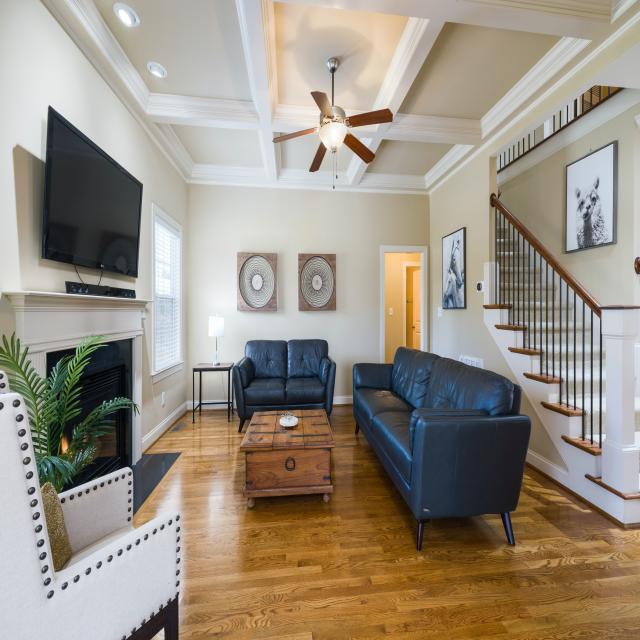floor: (132, 403, 640, 640)
wall: (429, 19, 640, 473), (187, 185, 430, 401), (497, 101, 640, 306), (565, 140, 618, 254), (385, 253, 421, 363), (237, 253, 277, 315), (298, 254, 336, 311), (201, 371, 228, 401), (75, 265, 102, 285), (535, 123, 544, 146), (194, 372, 200, 401), (0, 366, 17, 375), (0, 357, 15, 364), (555, 111, 560, 132), (524, 134, 529, 153), (603, 86, 609, 99), (530, 130, 534, 149), (514, 142, 518, 160), (519, 139, 523, 156), (0, 353, 11, 359), (610, 86, 618, 94), (230, 368, 232, 400), (505, 149, 509, 165), (561, 108, 564, 128), (233, 382, 236, 400), (510, 146, 513, 163), (501, 152, 504, 168), (497, 155, 500, 171), (7, 375, 16, 380), (601, 86, 603, 100), (9, 383, 17, 386), (10, 389, 16, 392)
